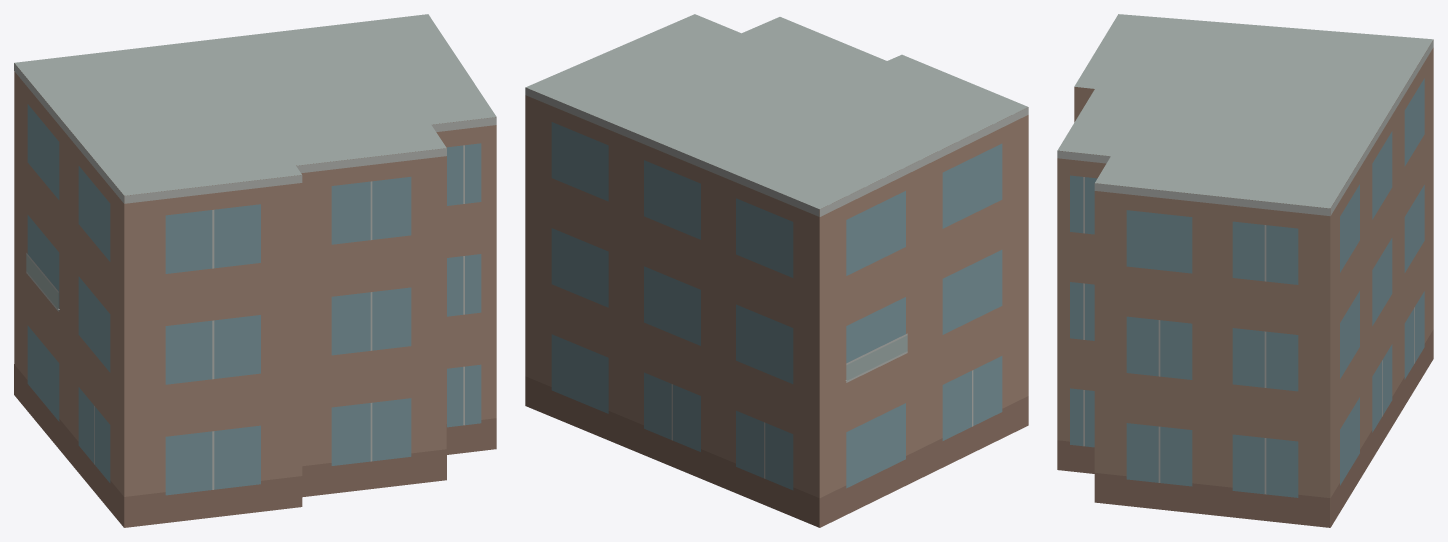
Rendered from survey-upis-32913929.glb.
3 renders of one model, left to right at view 1: azimuth 30°, elevation 25°; view 2: azimuth 150°, elevation 25°; view 3: azimuth 270°, elevation 25°, orthographic. The views are drawn at different scales.
Parts seen in each view (by area): view 1: survey-upis-32913929.tmp; view 2: survey-upis-32913929.tmp; view 3: survey-upis-32913929.tmp.
Boxes of the visible parts, <box> form: survey-upis-32913929.tmp: <box>14,14,496,527</box>; survey-upis-32913929.tmp: <box>525,14,1028,527</box>; survey-upis-32913929.tmp: <box>1057,14,1433,527</box>.
Bounding box in the file's own units: 13.13 × 10.05 × 10.74.
